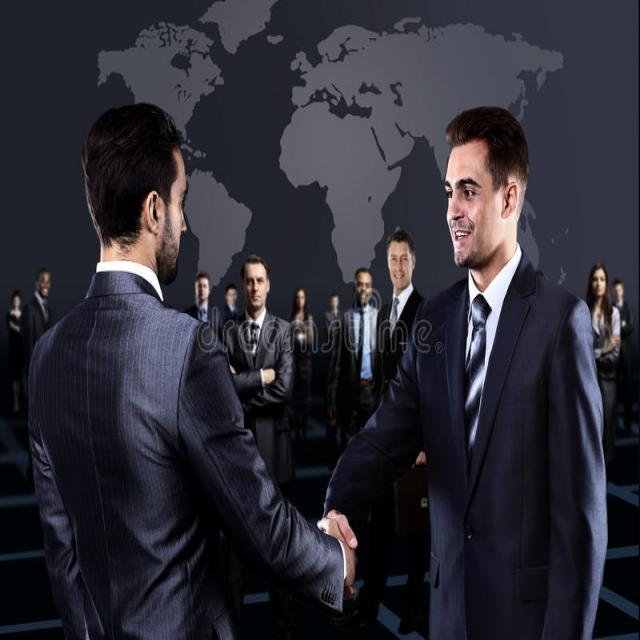No_Goggles: (445, 178, 493, 211), (389, 251, 413, 266), (591, 274, 606, 291)
No_Helmet: (79, 100, 186, 176), (442, 100, 531, 168), (234, 250, 274, 274), (355, 262, 372, 276)
